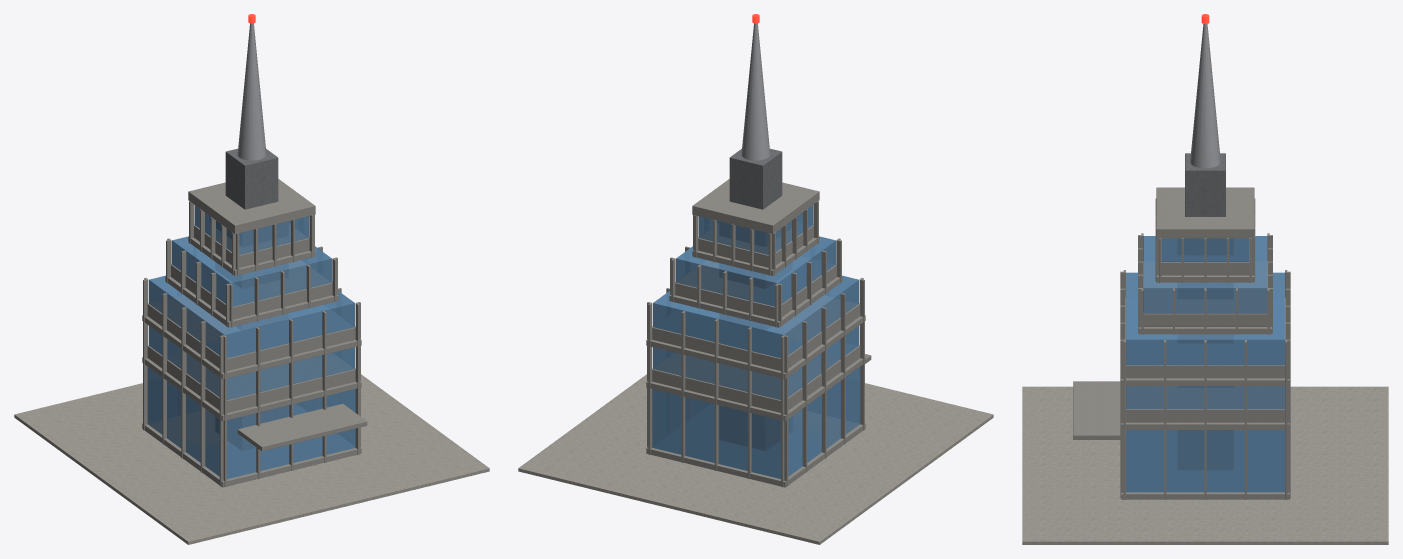
File: region_city_tower.glb
3 views of the same model, side by side, from view 1: azimuth 30°, elevation 25°; view 2: azimuth 150°, elevation 25°; view 3: azimuth 270°, elevation 25° (orthographic). The views are drawn at different scales.
Visible parts, largest first — view 1: building; view 2: building; view 3: building.
Boxes of the visible parts, box(x1,y1,x2,y2) form: building: box(14, 14, 489, 544); building: box(518, 14, 993, 544); building: box(1022, 14, 1388, 544).
Size of the model in its own units: 28.6 by 38.9 by 28.6.
6 materials, 4 textured.
